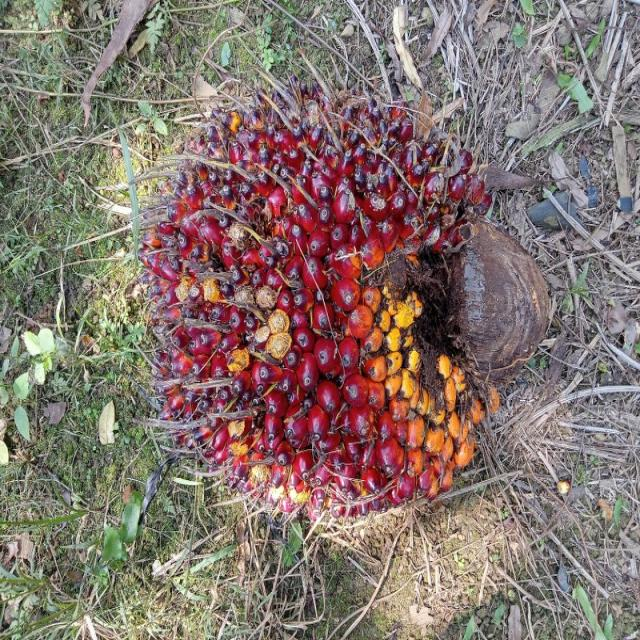fraksi 1: (109, 44, 566, 578)
